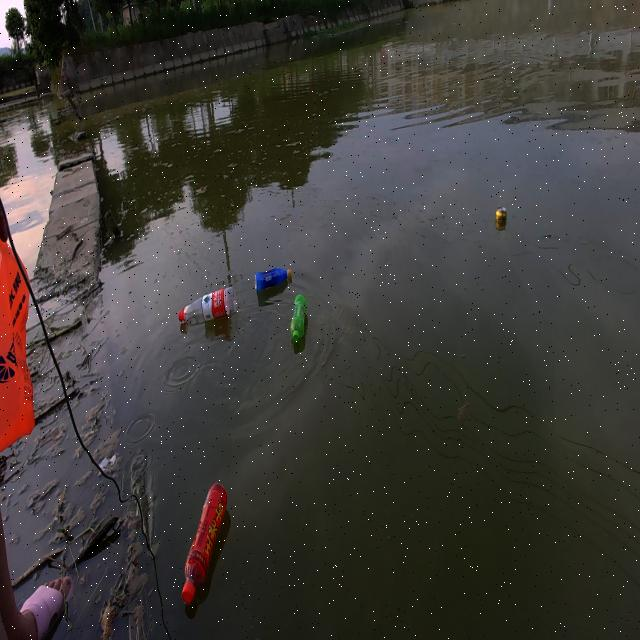Bottle: (180, 477, 229, 604), (176, 285, 238, 327), (251, 264, 294, 293), (289, 290, 307, 350)
Can: (490, 197, 509, 231)
